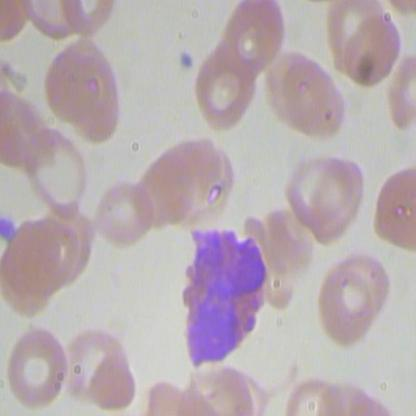Platelets: (173, 47, 197, 72), (1, 217, 19, 244)
RBC: (40, 33, 124, 152), (24, 123, 90, 222), (3, 326, 72, 412), (191, 43, 260, 129), (315, 267, 380, 353), (219, 1, 287, 83), (279, 56, 343, 142), (283, 156, 356, 231), (341, 13, 405, 92), (368, 167, 415, 255), (95, 180, 150, 248), (89, 342, 140, 413), (283, 370, 342, 414), (388, 52, 415, 132)
WBC: (164, 221, 286, 373)
